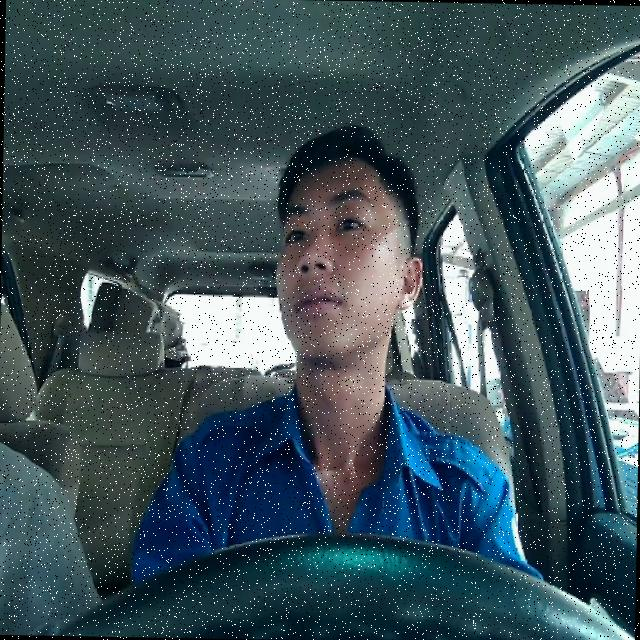seeing_left: (269, 152, 424, 364)
